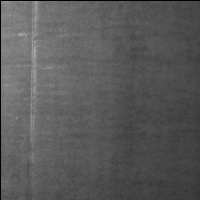scratches: (27, 1, 41, 167)
